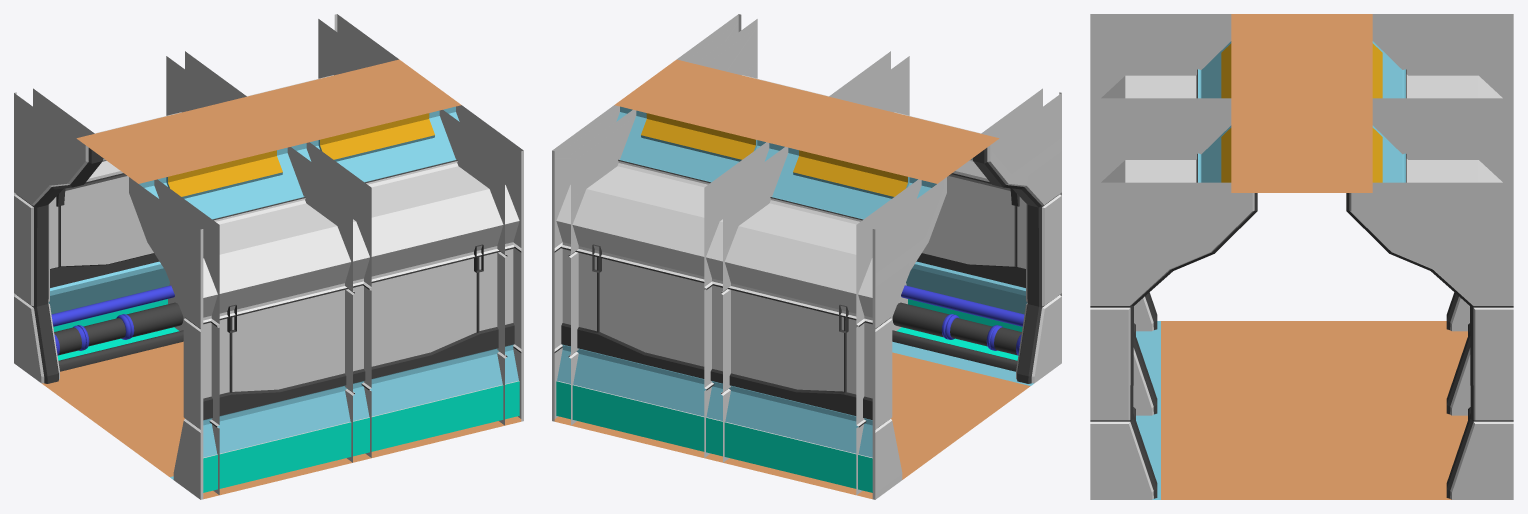
The model's file is HallWall.fbx.
3 views of the same model, side by side, from view 1: azimuth 30°, elevation 25°; view 2: azimuth 150°, elevation 25°; view 3: azimuth 270°, elevation 25° (orthographic). The views are drawn at different scales.
Parts seen in each view (by area): view 1: HallWall; view 2: HallWall; view 3: HallWall.
Boxes of the visible parts, <box> form: HallWall: <box>14,14,523,499</box>; HallWall: <box>552,14,1061,499</box>; HallWall: <box>1090,14,1513,499</box>.
Bounding box in the file's own units: 6 × 4.8 × 6.
